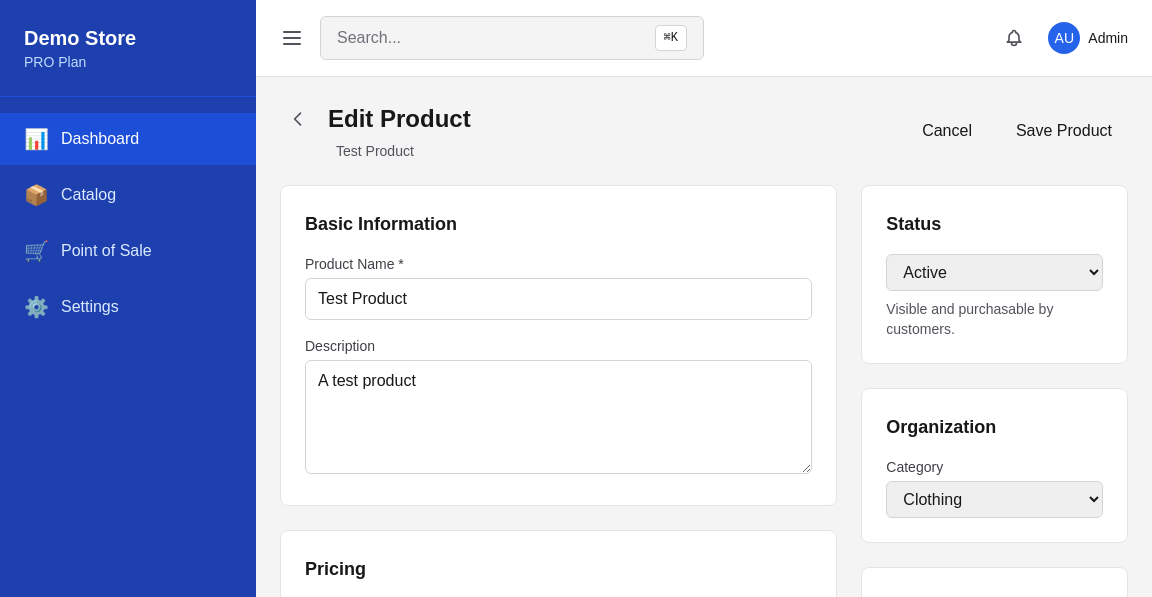
Scenario: Catalog Management › Product Editor › should validate required fields
Note: Clear product name
Clear the field at (559, 299), box [305,278,812,320]
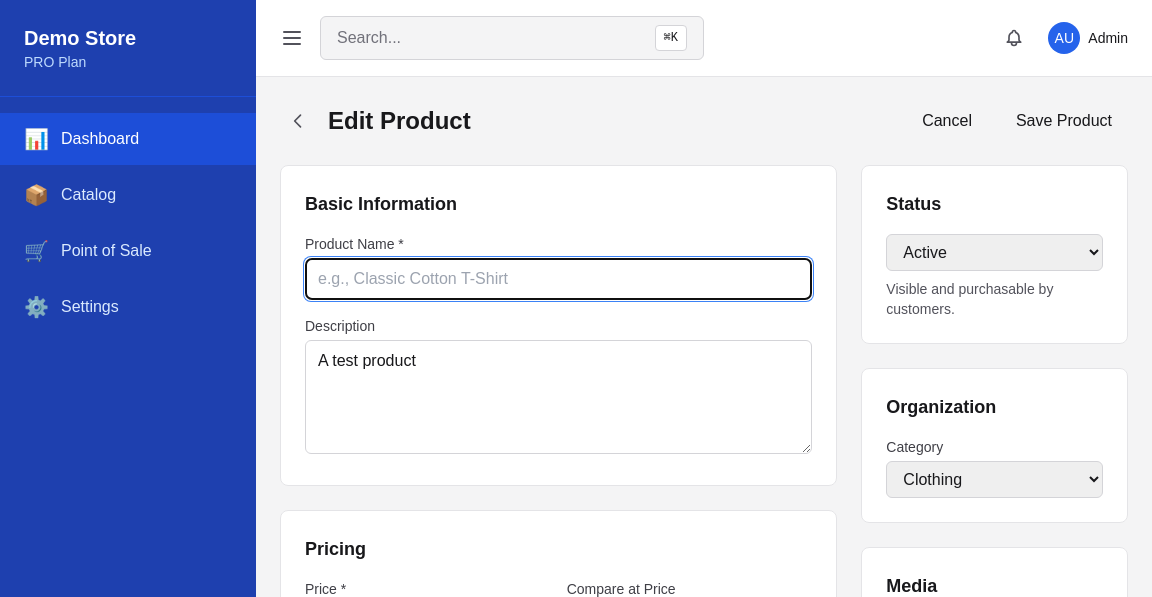
Note: Try to save
Click the button "Save Product".
click(1064, 121)  # box [1000,101,1128,141]
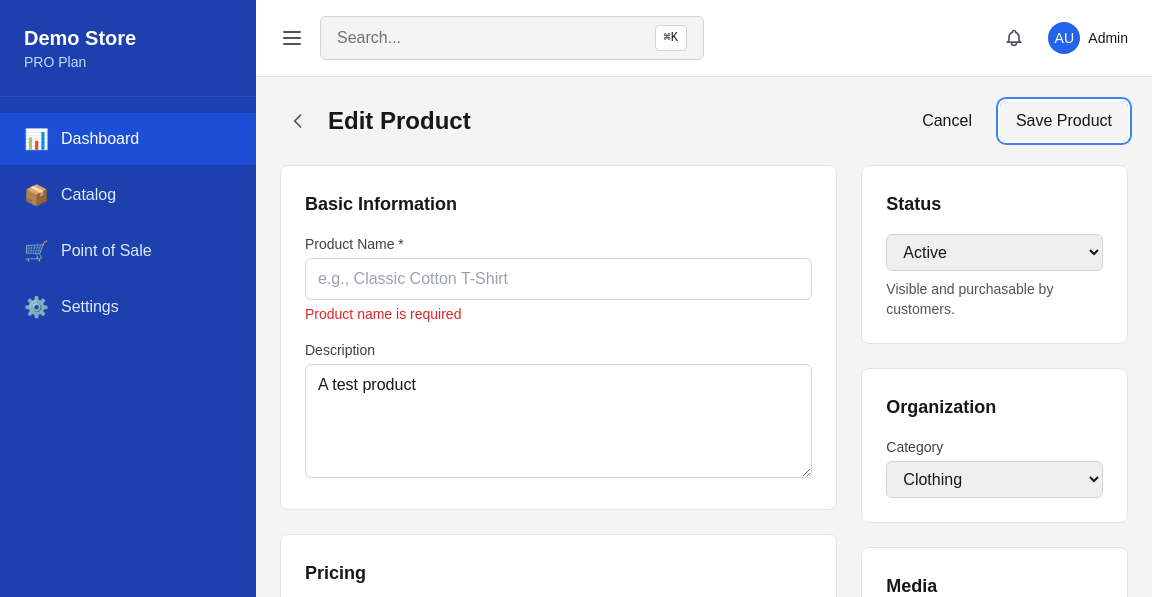
Result: the text "Product name is required" is shown at [305,306,461,322]
